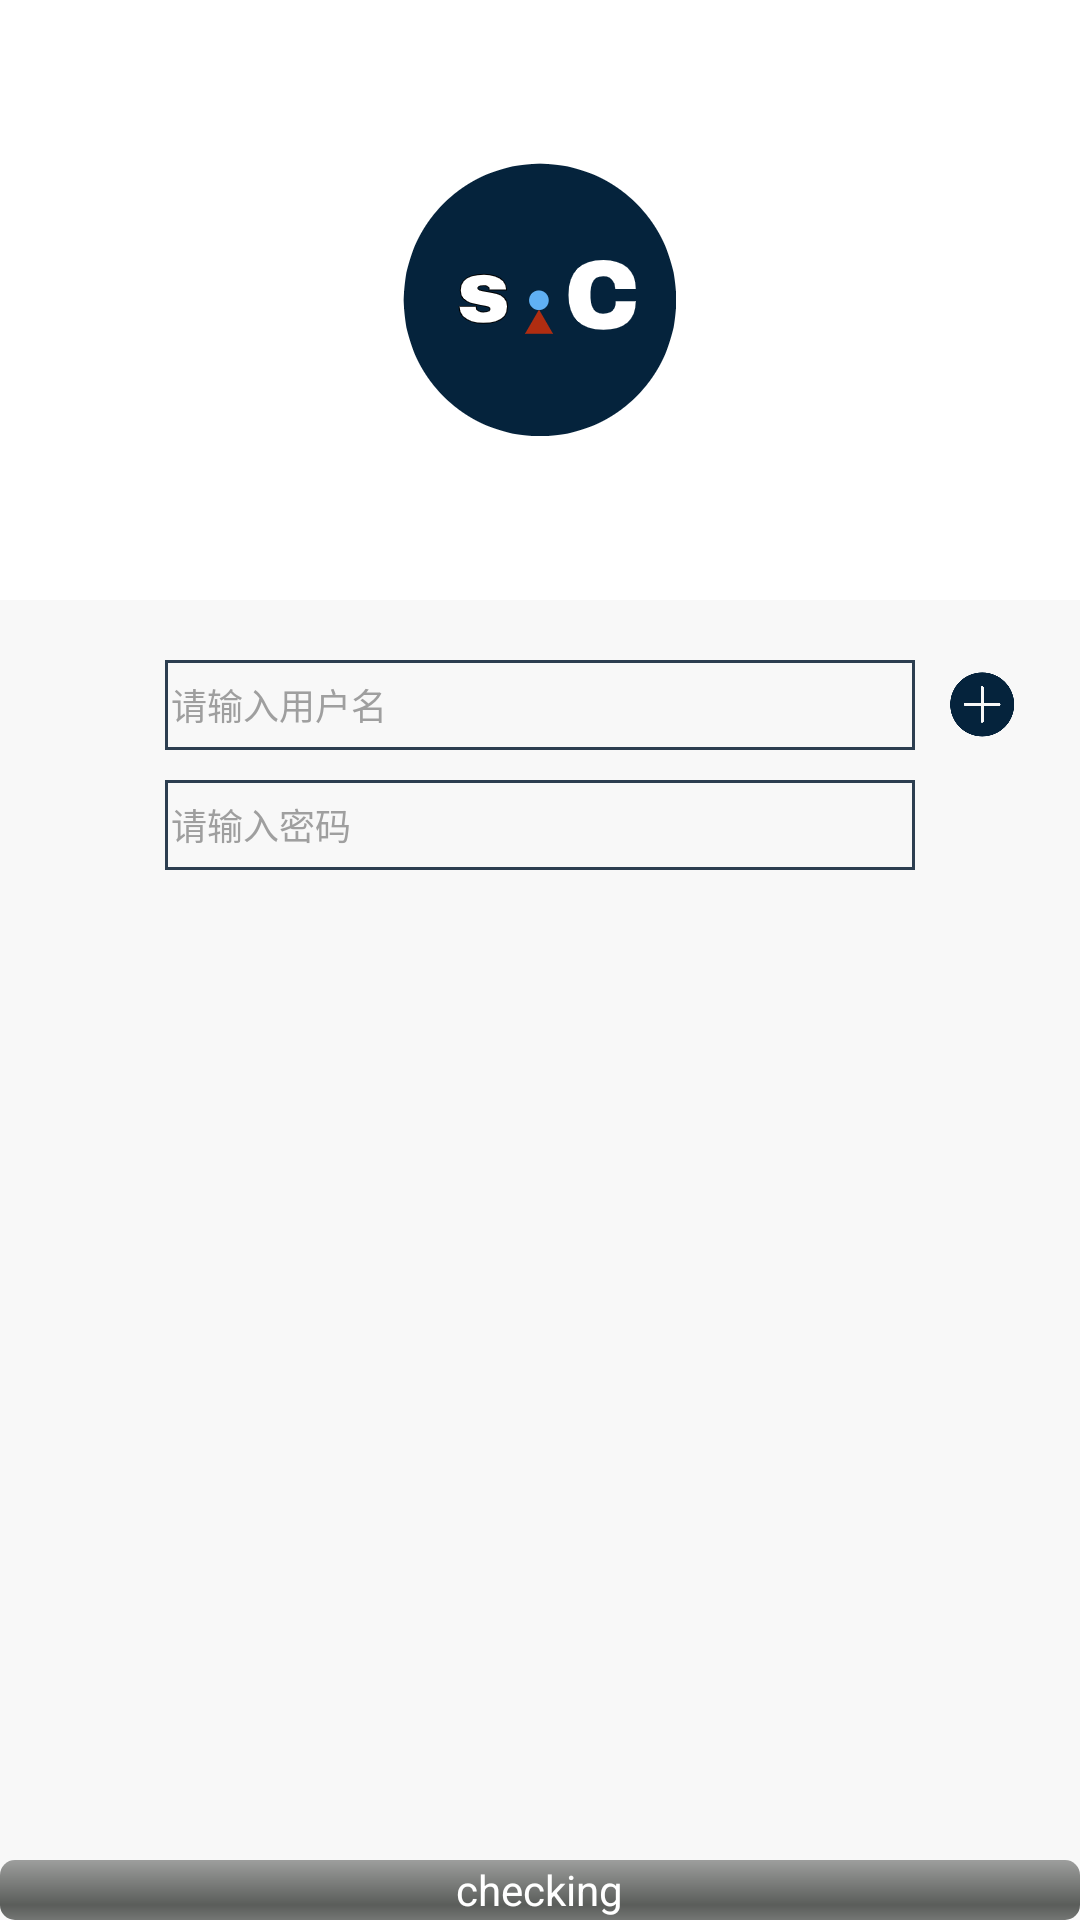

Named icons in this screenshot (1080×1920) and their centers, (x=x, y=y):
plus: (x=982, y=704)
